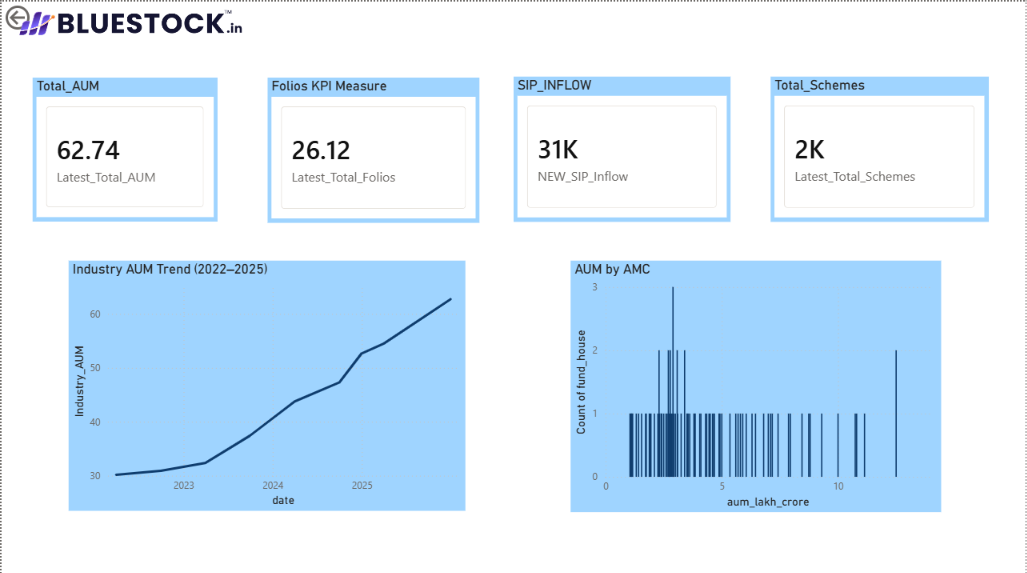

This screenshot's page, from the dashboard's own definition file:
{"tool":"powerbi","page":{"name":"Industry Overview","canvas":[1280,720],"ordinal":0},"visuals":[{"type":"cardVisual","title":"SIP_INFLOW","fields":{"Data":["04_monthly_sip_inflows_cleaned.NEW_SIP_Inflow"]},"box":[640,93.8,271.2,181.2],"z":0},{"type":"cardVisual","title":"Folios KPI Measure","fields":{"Data":["06_industry_folio_count_cleaned.Latest_Total_Folios"]},"box":[332.5,95,265,181.2],"z":1000},{"type":"cardVisual","title":"Total_Schemes","fields":{"Data":["03_aum_by_fund_house_cleaned.Latest_Total_Schemes"]},"box":[961.2,93.8,272.5,181.2],"z":2000},{"type":"cardVisual","title":"Total_AUM","fields":{"Data":["03_aum_by_fund_house_cleaned.Latest_Total_AUM"]},"box":[38.8,95,231.2,180],"z":3000},{"type":"lineChart","title":"Industry AUM Trend (2022–2025)","fields":{"Y":["03_aum_by_fund_house_cleaned.Industry_AUM"],"Category":["03_aum_by_fund_house_cleaned.date.Variation.Date Hierarchy.Year"]},"box":[84.3,324.3,495.7,312.9],"z":4000},{"type":"actionButton","box":[0,0,100,40],"z":5000},{"type":"columnChart","title":"AUM by AMC","fields":{"Category":["03_aum_by_fund_house_cleaned.aum_lakh_crore"],"Y":["CountNonNull(03_aum_by_fund_house_cleaned.fund_house)"]},"box":[711.4,324.3,462.9,314.3],"z":6000},{"type":"image","box":[21.4,0,281.4,51.4],"z":6001}]}

Visuals, with their boxes in screenshot pixels (x1, y1, x2, y2), scaled from the page's 1280x720 canvas onto the 1027x573 screenshot:
"SIP_INFLOW" cardVisual: <bbox>514, 75, 731, 219</bbox>
"Folios KPI Measure" cardVisual: <bbox>267, 76, 479, 220</bbox>
"Total_Schemes" cardVisual: <bbox>771, 75, 990, 219</bbox>
"Total_AUM" cardVisual: <bbox>31, 76, 217, 219</bbox>
"Industry AUM Trend (2022–2025)" lineChart: <bbox>68, 258, 465, 507</bbox>
actionButton: <bbox>0, 0, 80, 32</bbox>
"AUM by AMC" columnChart: <bbox>571, 258, 942, 508</bbox>
image: <bbox>17, 0, 243, 41</bbox>
